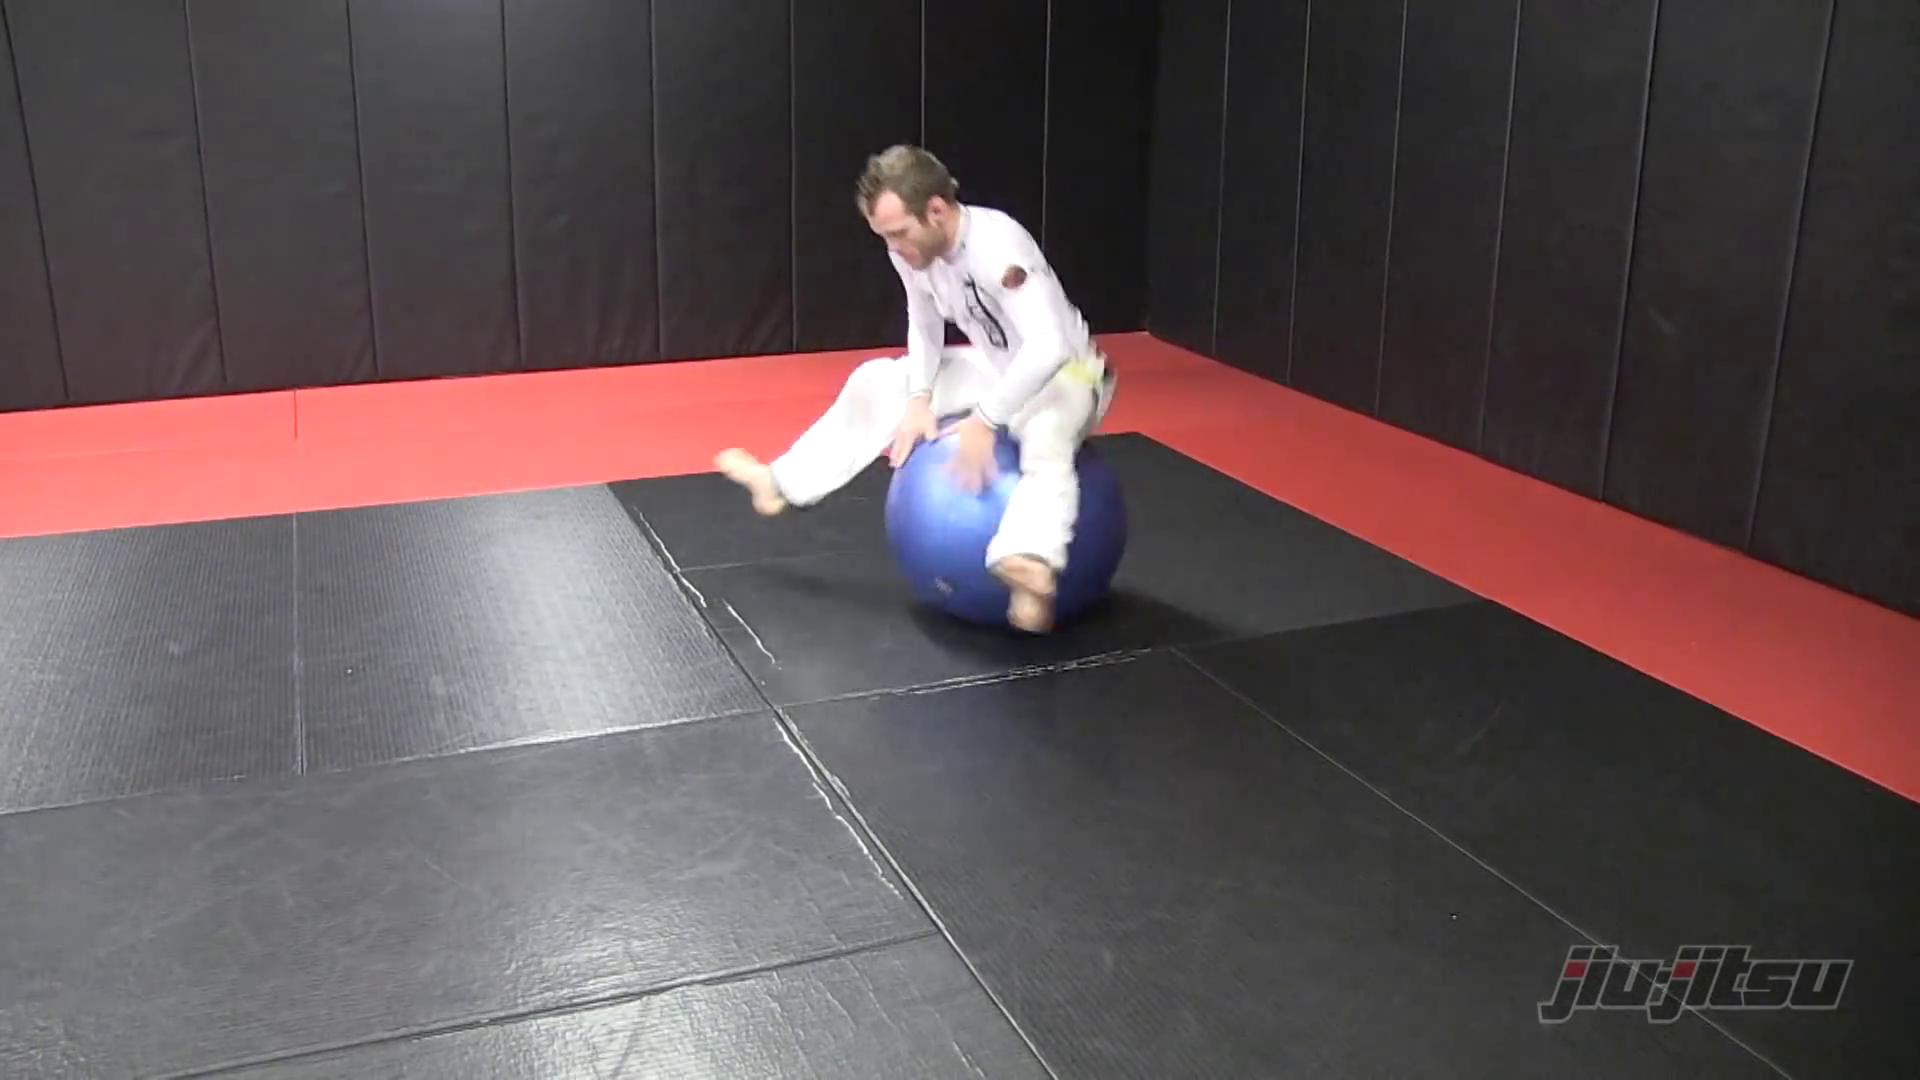yogaball: (868, 404, 1135, 644)
